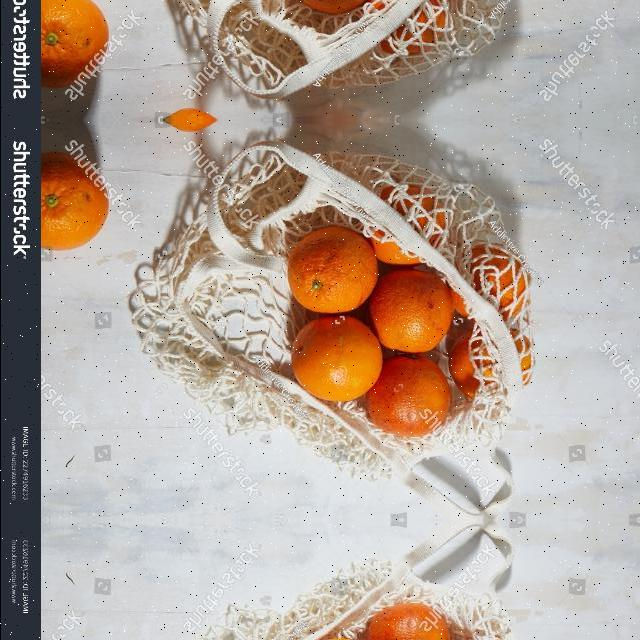Orange: (287, 225, 379, 313), (290, 314, 383, 401), (369, 268, 455, 353), (365, 355, 451, 438), (40, 151, 109, 250), (371, 182, 450, 265), (449, 326, 535, 398), (40, 0, 110, 88), (365, 601, 451, 639)
